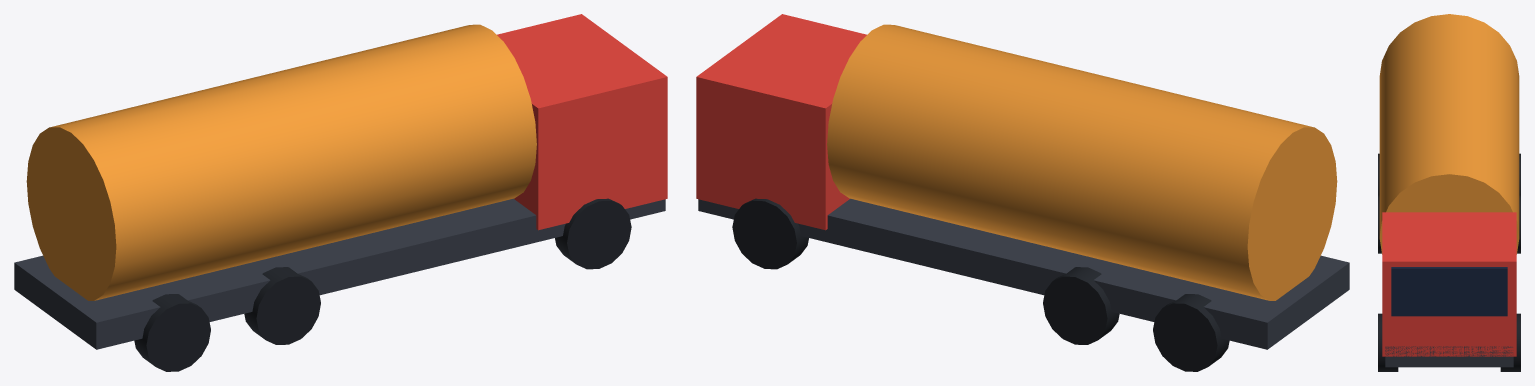
Rendered from fuel-truck.glb.
The picture shows the model from 3 angles, left to right: view 1: azimuth 30°, elevation 25°; view 2: azimuth 150°, elevation 25°; view 3: azimuth 270°, elevation 25°; orthographic projection. The views are drawn at different scales.
Parts seen in each view (by area): view 1: Tank, Cab, Chassis, Wheel (×3); view 2: Tank, Cab, Chassis, Wheel (×3); view 3: Tank, Cab, Windshield, Chassis, Wheel (×4).
Boxes of the visible parts, x1,y1,x2,y2 form: Tank: (26,24,536,300); Cab: (497,14,667,230); Chassis: (14,198,665,349); Wheel (×3): (134,198,631,371); Tank: (827,24,1337,300); Cab: (696,14,866,230); Chassis: (698,198,1349,349); Wheel (×3): (732,198,1229,371); Tank: (1379,14,1519,254); Cab: (1382,212,1516,356); Windshield: (1391,267,1507,316); Chassis: (1385,346,1513,367); Wheel (×4): (1378,195,1520,371).
Size of the model in its own units: 8.87 by 3.25 by 2.45.
